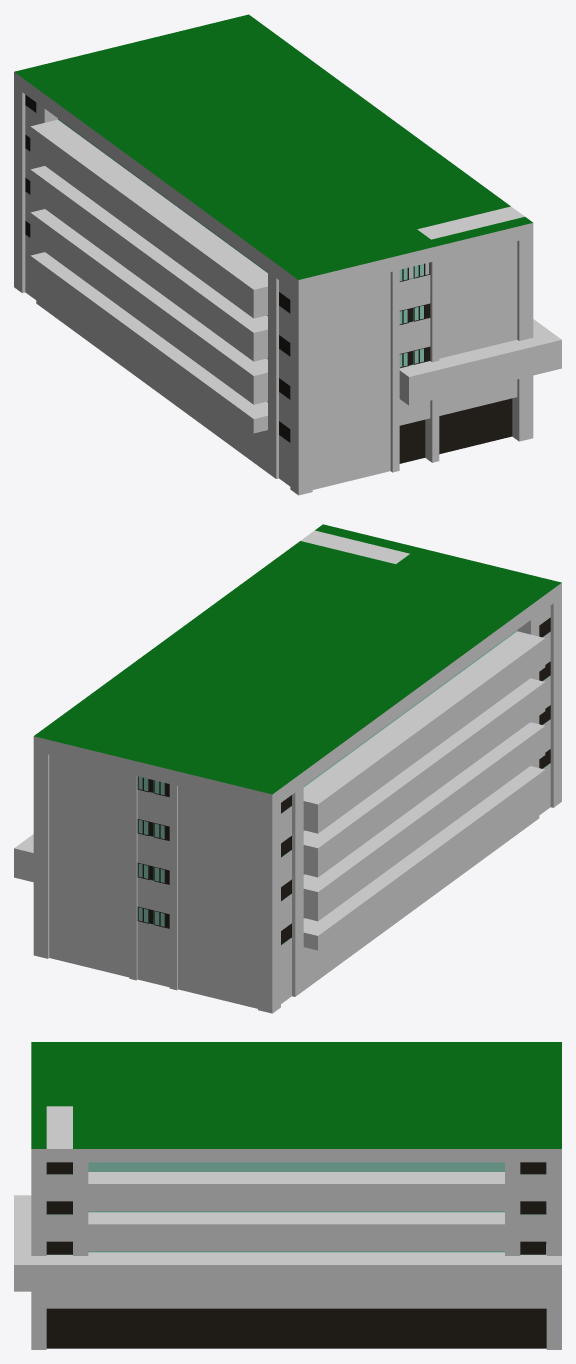
Rendered from Sci Tech Research Center.fbx.
The picture shows the model from 3 angles, top to bottom: view 1: azimuth 30°, elevation 25°; view 2: azimuth 150°, elevation 25°; view 3: azimuth 270°, elevation 25°; orthographic projection. The views are drawn at different scales.
Visible parts, largest first — view 1: Sci Tech Research Center; view 2: Sci Tech Research Center; view 3: Sci Tech Research Center.
Part boxes in pixels (box(x1,y1,x2,y2)): Sci Tech Research Center: box(14, 14, 561, 495); Sci Tech Research Center: box(14, 524, 561, 1013); Sci Tech Research Center: box(14, 1042, 561, 1349).
Size of the model in its own units: 76.37 by 58.6 by 145.
